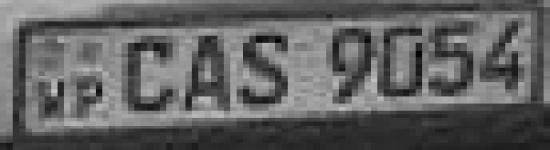0: (377, 22, 429, 100)
4: (479, 21, 531, 98)
5: (428, 21, 477, 99)
9: (325, 23, 377, 106)
A: (178, 31, 234, 116)
C: (119, 34, 181, 116)
P: (69, 73, 112, 122)
S: (236, 27, 303, 110)
W: (29, 75, 72, 123)
